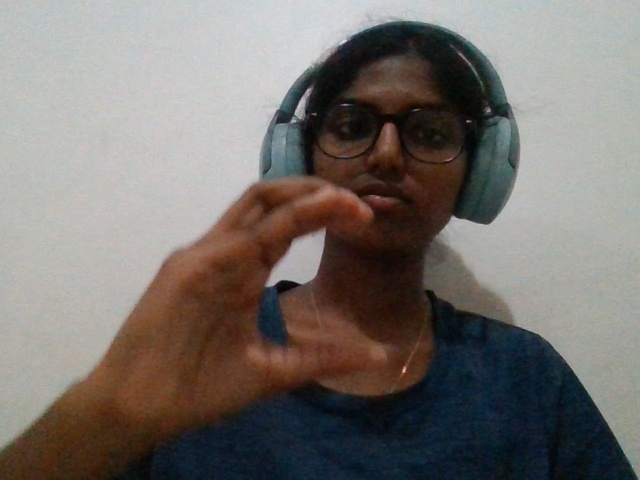C: (48, 166, 416, 458)
